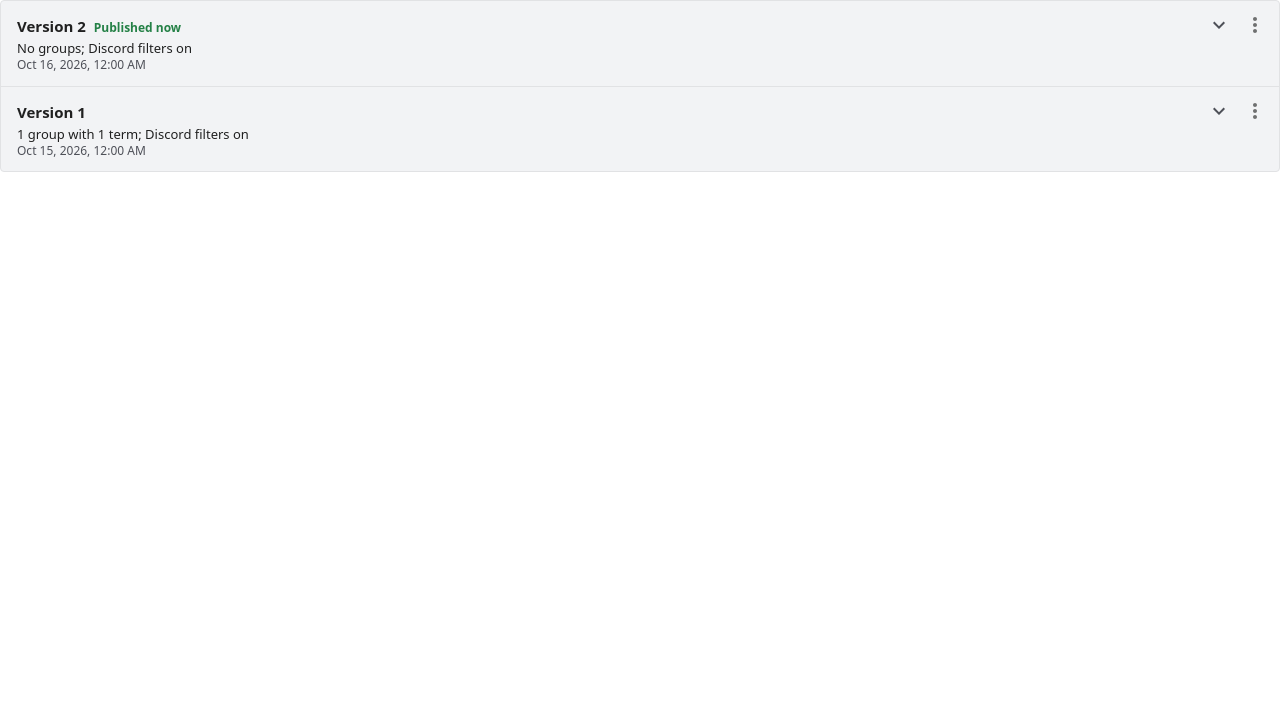
it: Versions on a phone › restores from the sheet
The width and height of the screenshot is (1280, 720).
Step 1. Click the button named "More actions for version 1" → click(1255, 111), box 1235,91 -> 1275,131
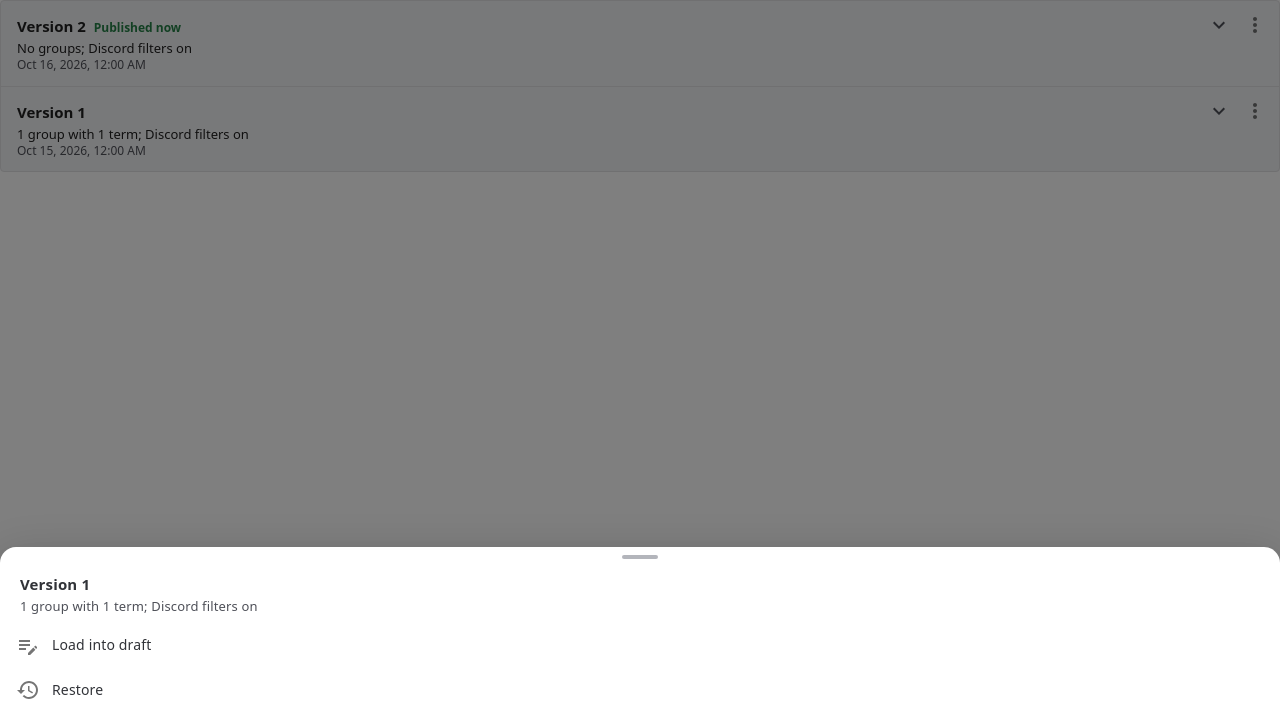
Step 2. Click the button "Restore" → click(60, 690), box 16,678 -> 103,702
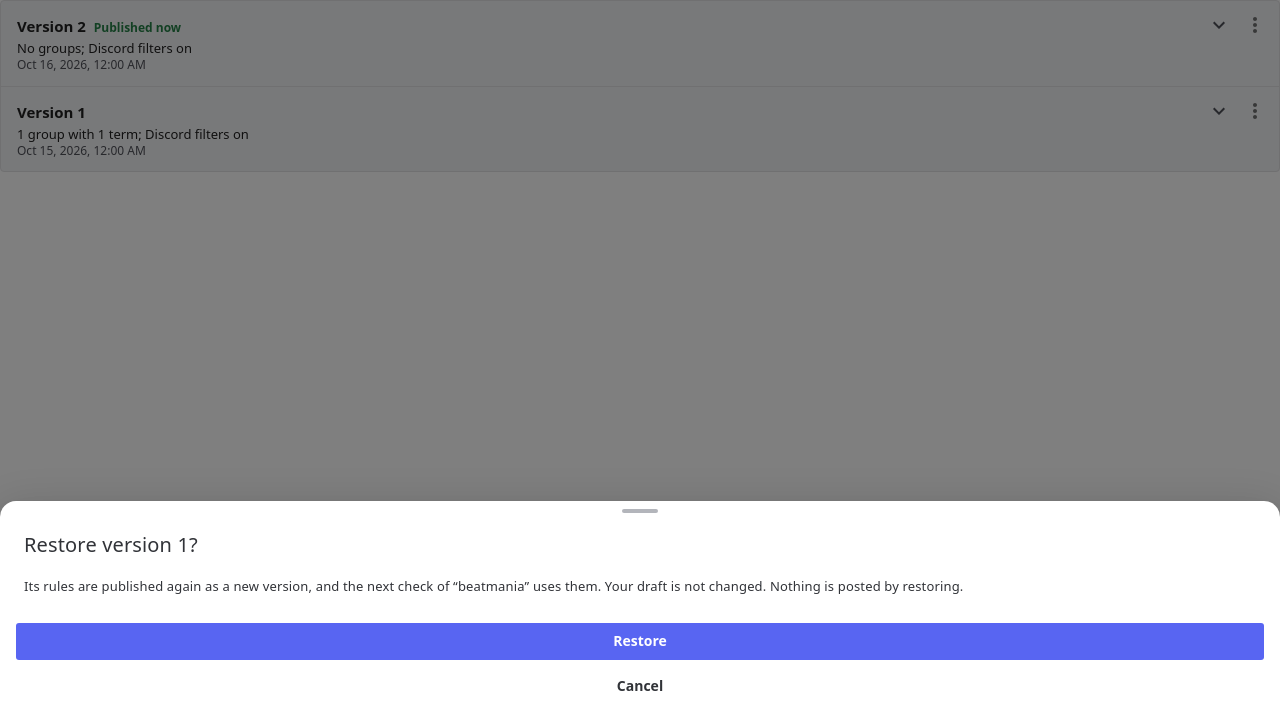
Expected: the dialog "Restore version 1?" is shown, 0,501 -> 1279,719
